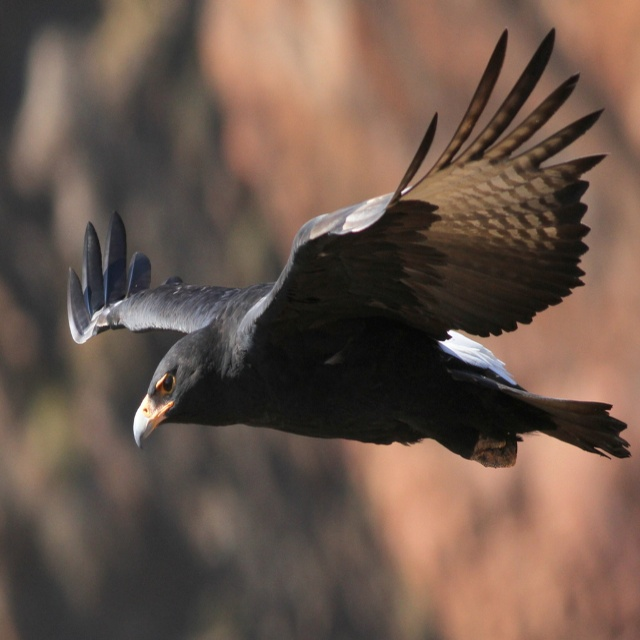Eagle: (63, 22, 638, 482)
